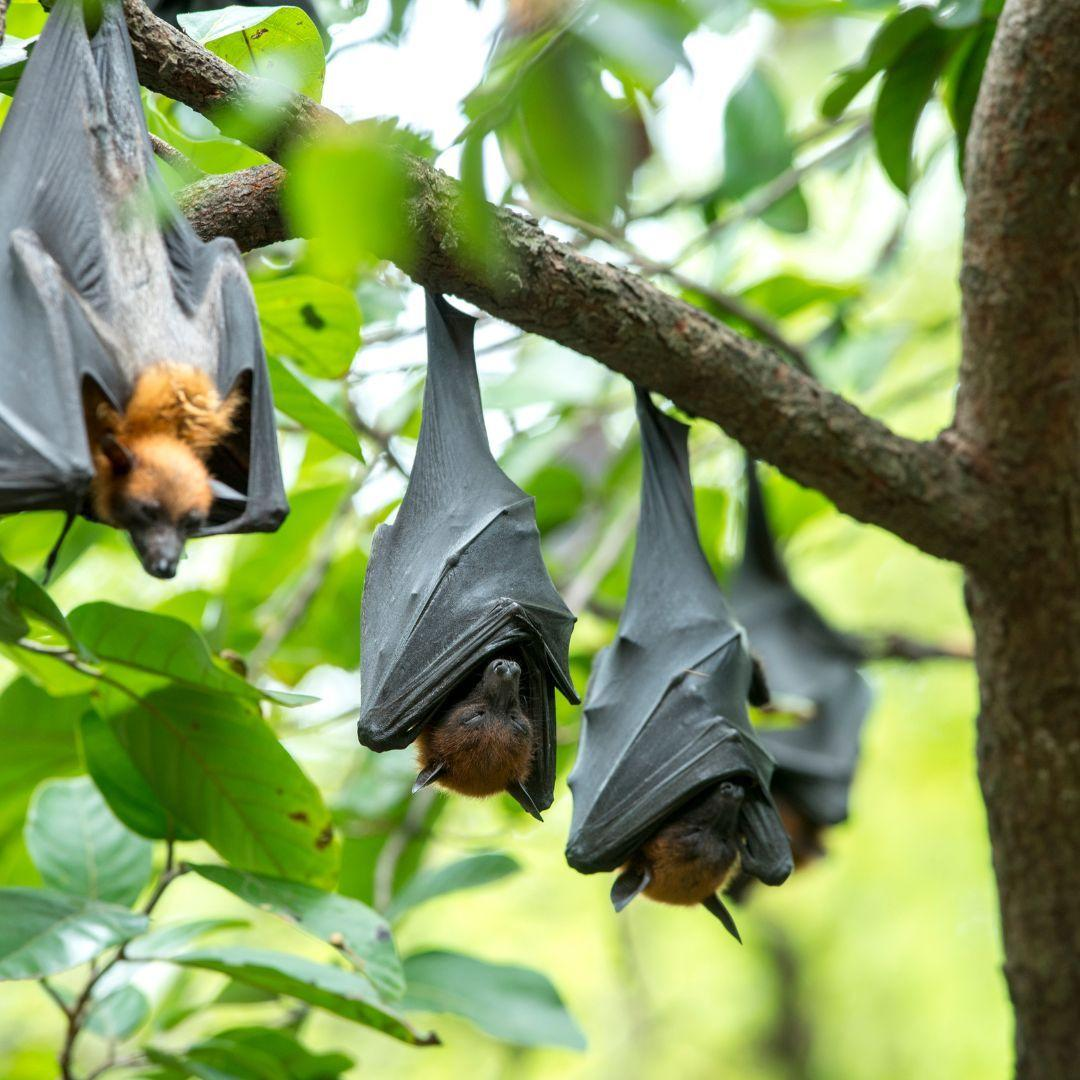bats: (579, 318, 853, 960), (0, 0, 278, 591), (290, 263, 570, 830)
